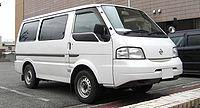Van: (14, 4, 183, 99)
